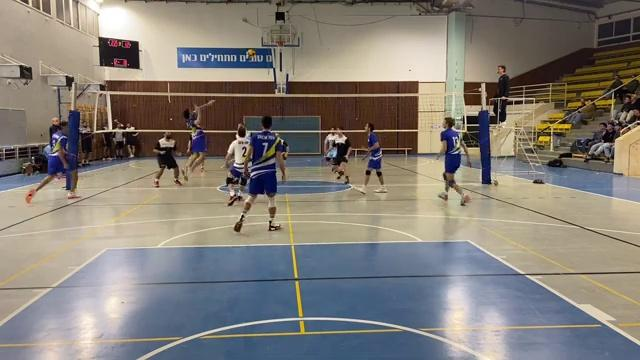ball: (244, 47, 258, 58)
